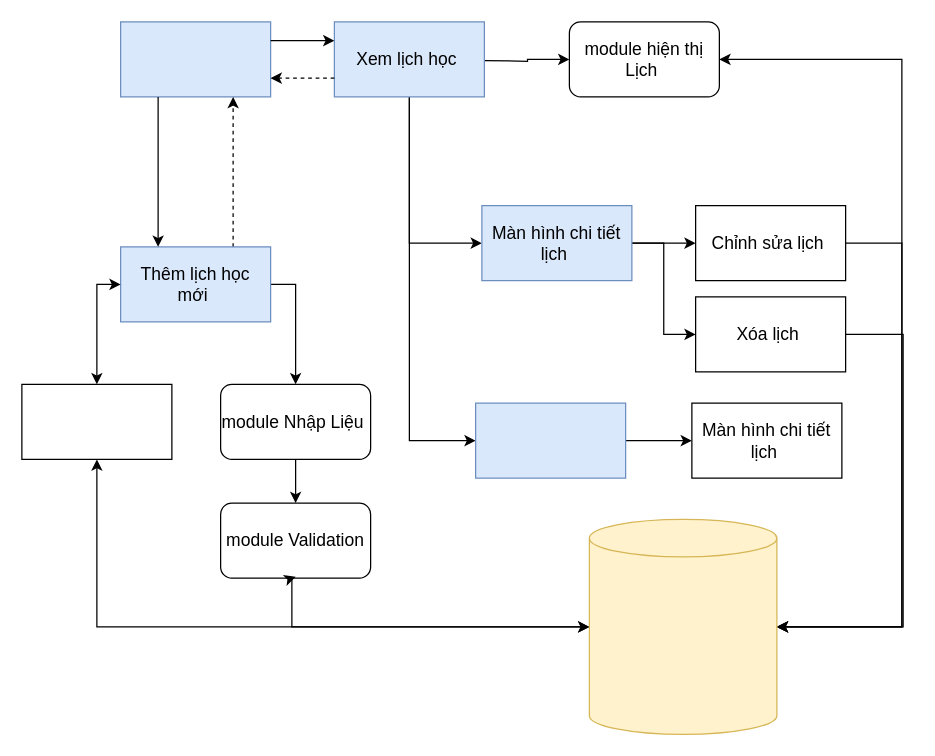
This 935x756 diagram has some shape labels left out. The box of each missing label's shape, as (x1, y1, x2, y2) in pixels:
FireBase: (588, 518, 777, 734)
module lưu trữ: (21, 383, 172, 459)
Module lọc lịch: (474, 402, 626, 478)
Màn hình chính: (119, 21, 271, 97)
